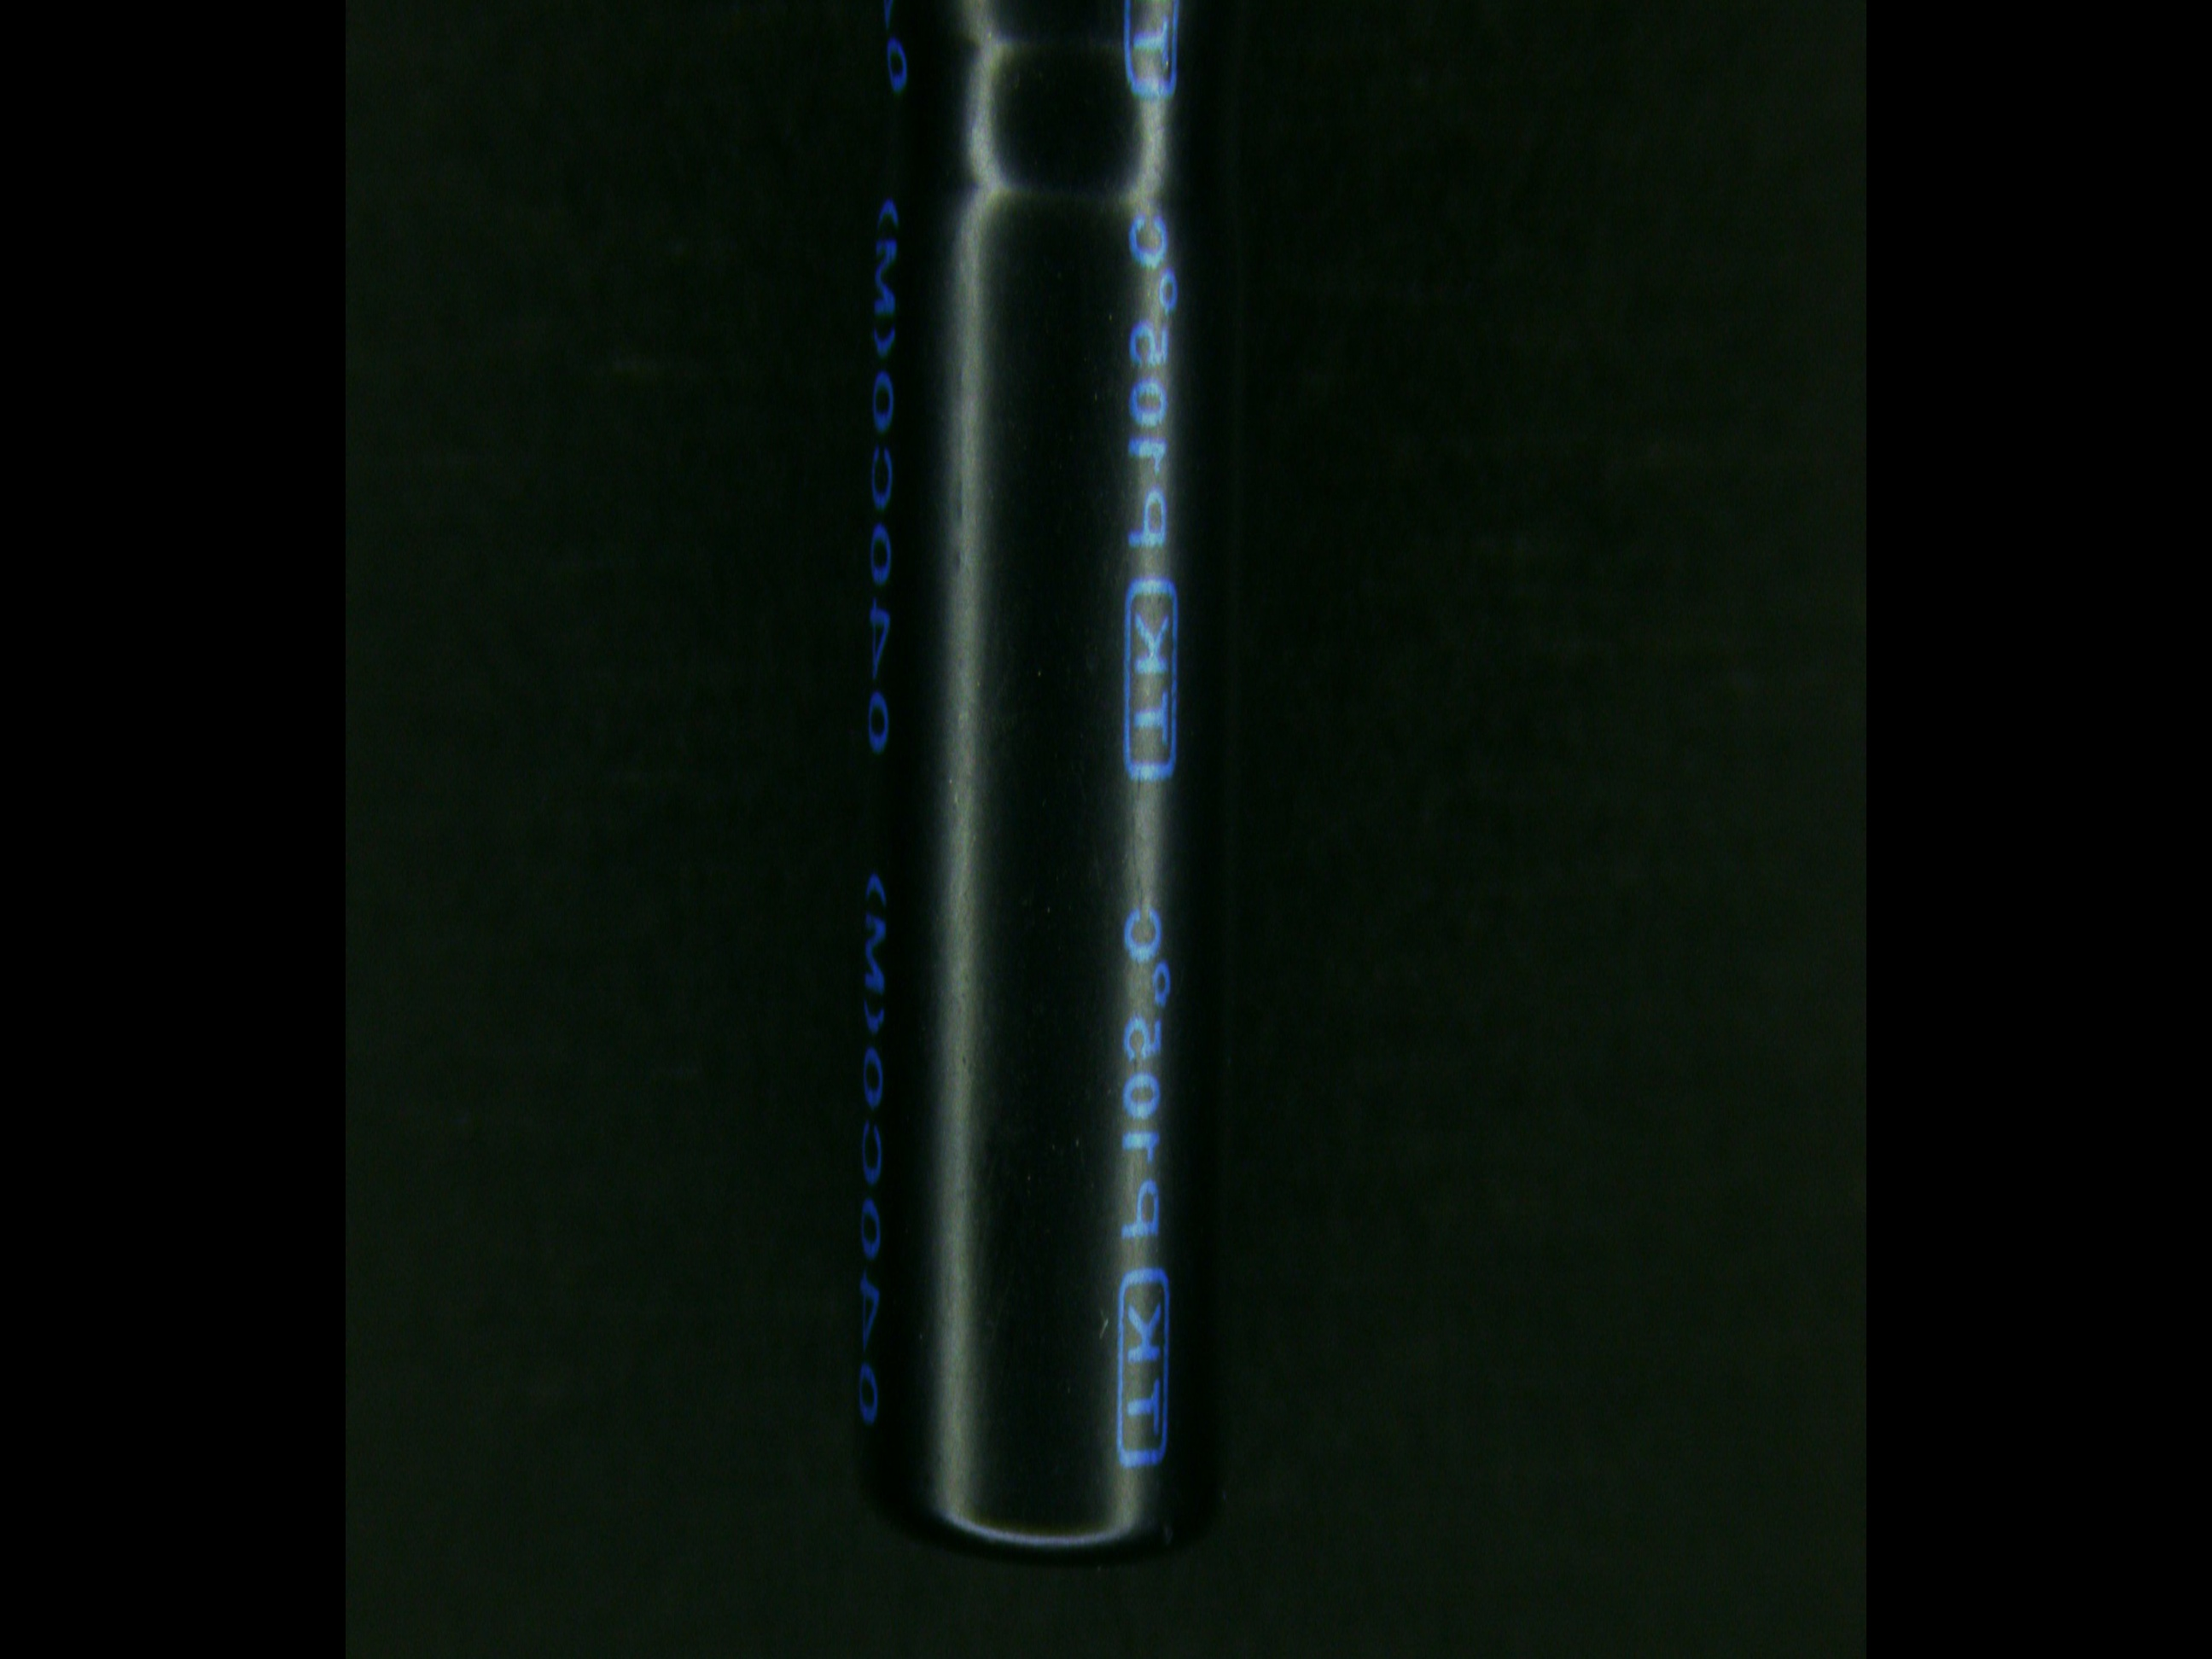c2: (838, 0, 1249, 1565)
